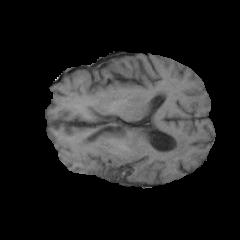glioma: (76, 126, 188, 177)
